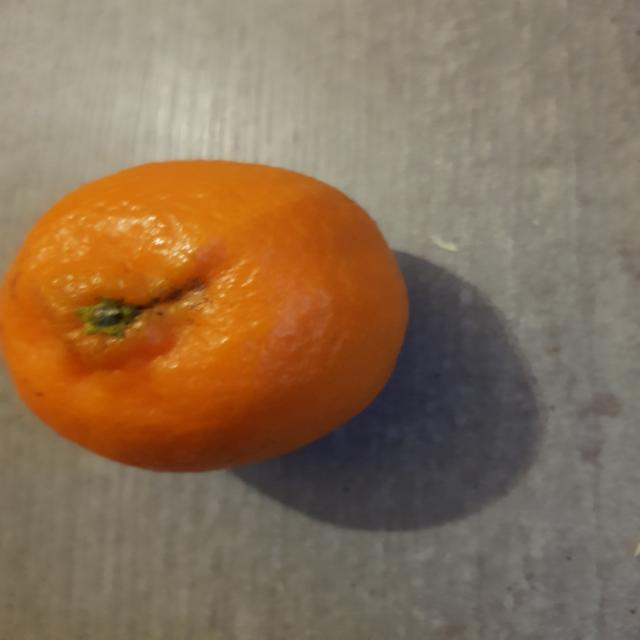Orange: (0, 160, 411, 477)
